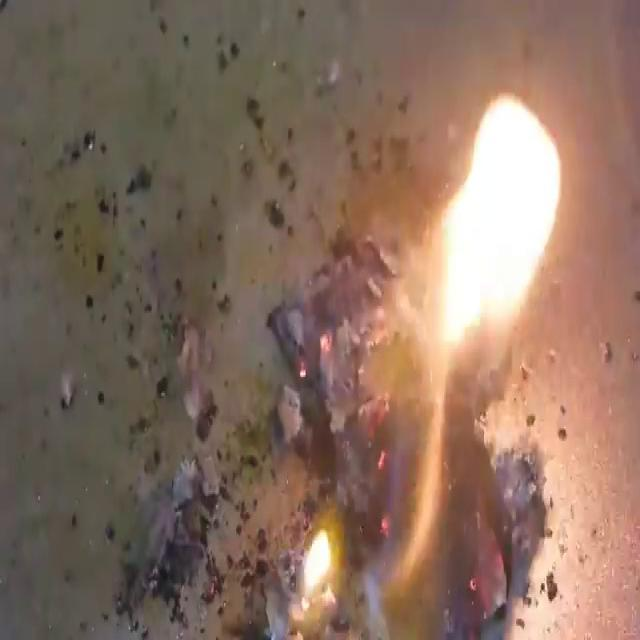Fire: (5, 4, 636, 636), (431, 89, 565, 354), (254, 427, 387, 636)
